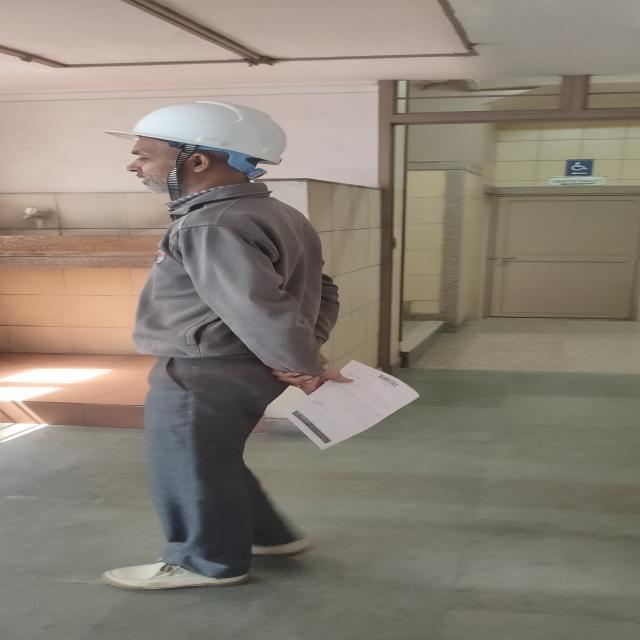no jacket: (103, 101, 420, 589)
